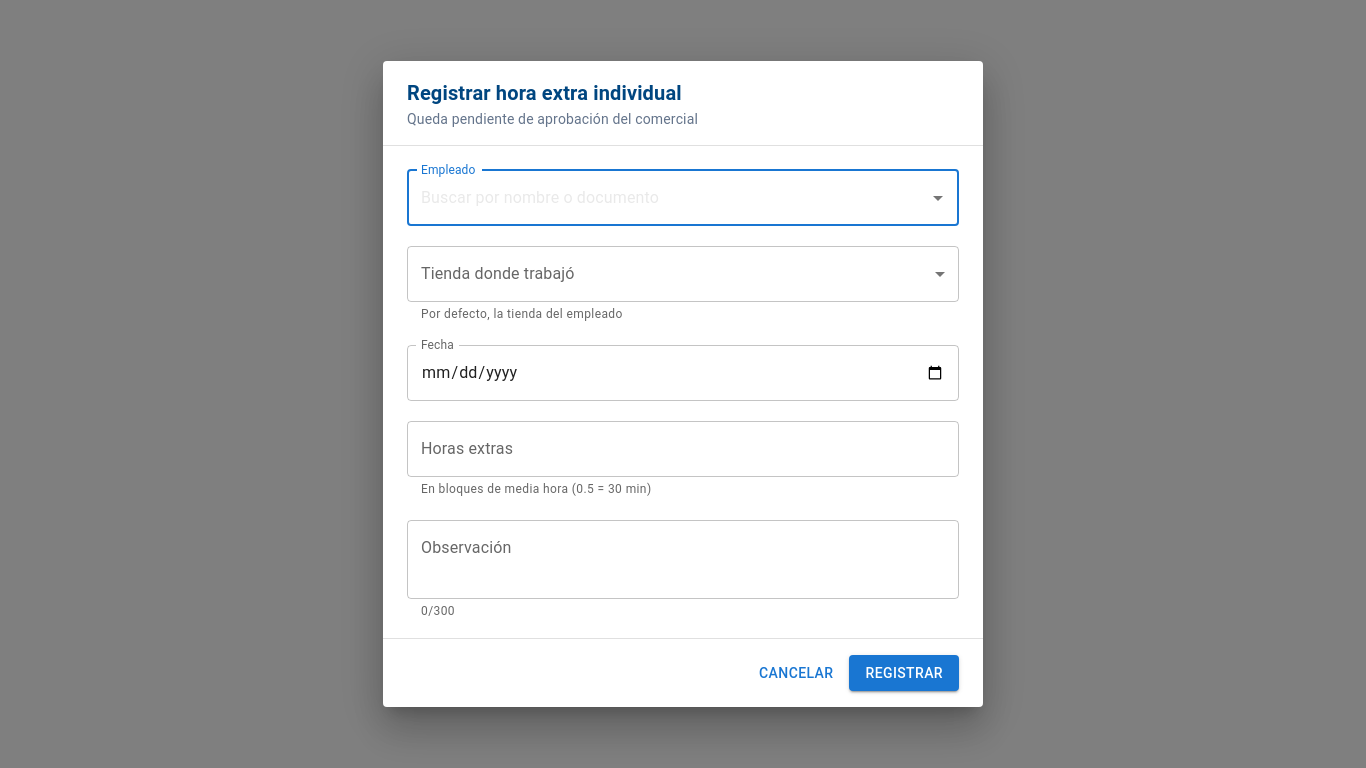
Scenario: RegistrarHoraExtraModal (individual) › no guarda sin horas ni con bloques que no son de media hora
This screenshot has width=1366, height=768.
In the dropdown labelled "Empleado": (668, 198) [416,179,920,217], type "1107"
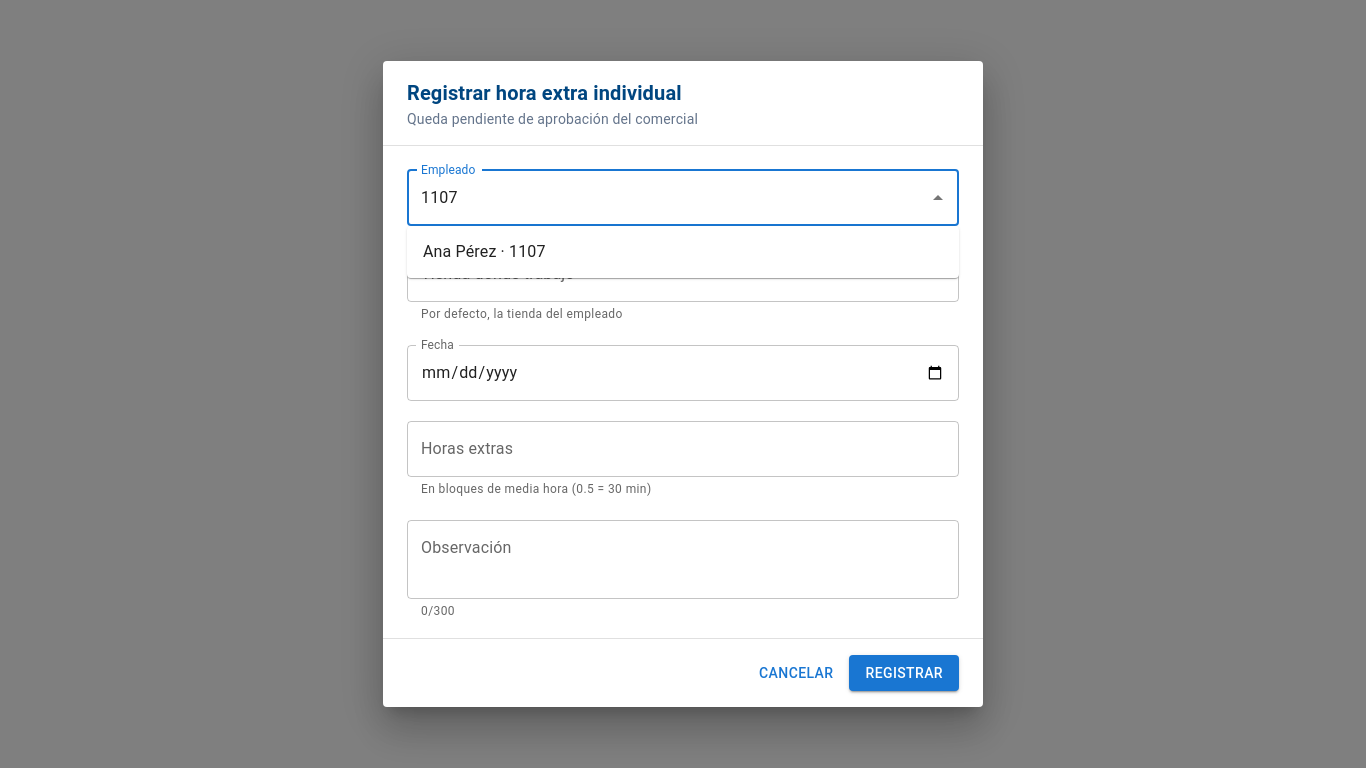
Click the option "Ana Pérez · 1107": (484, 252) [423,242,546,261]
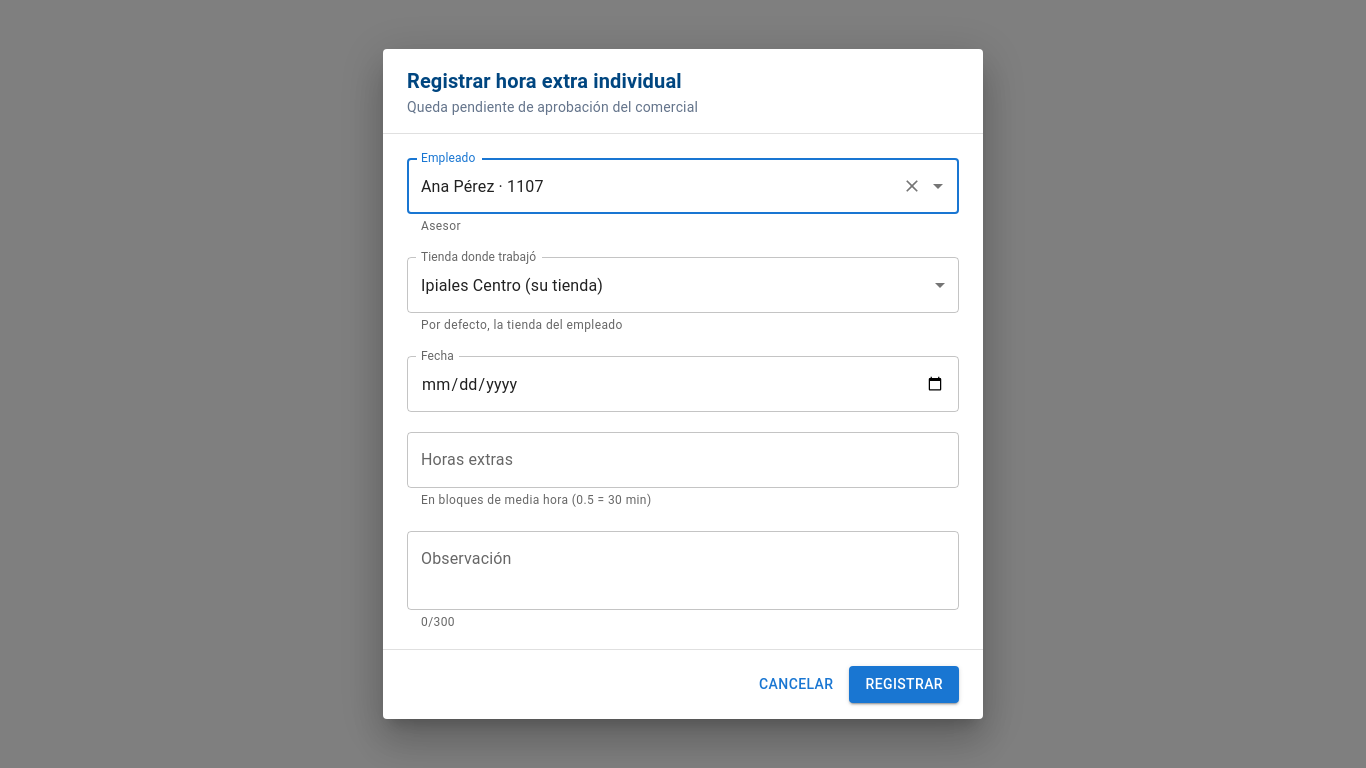
Click the button "Registrar": (904, 684) [850,666,959,703]
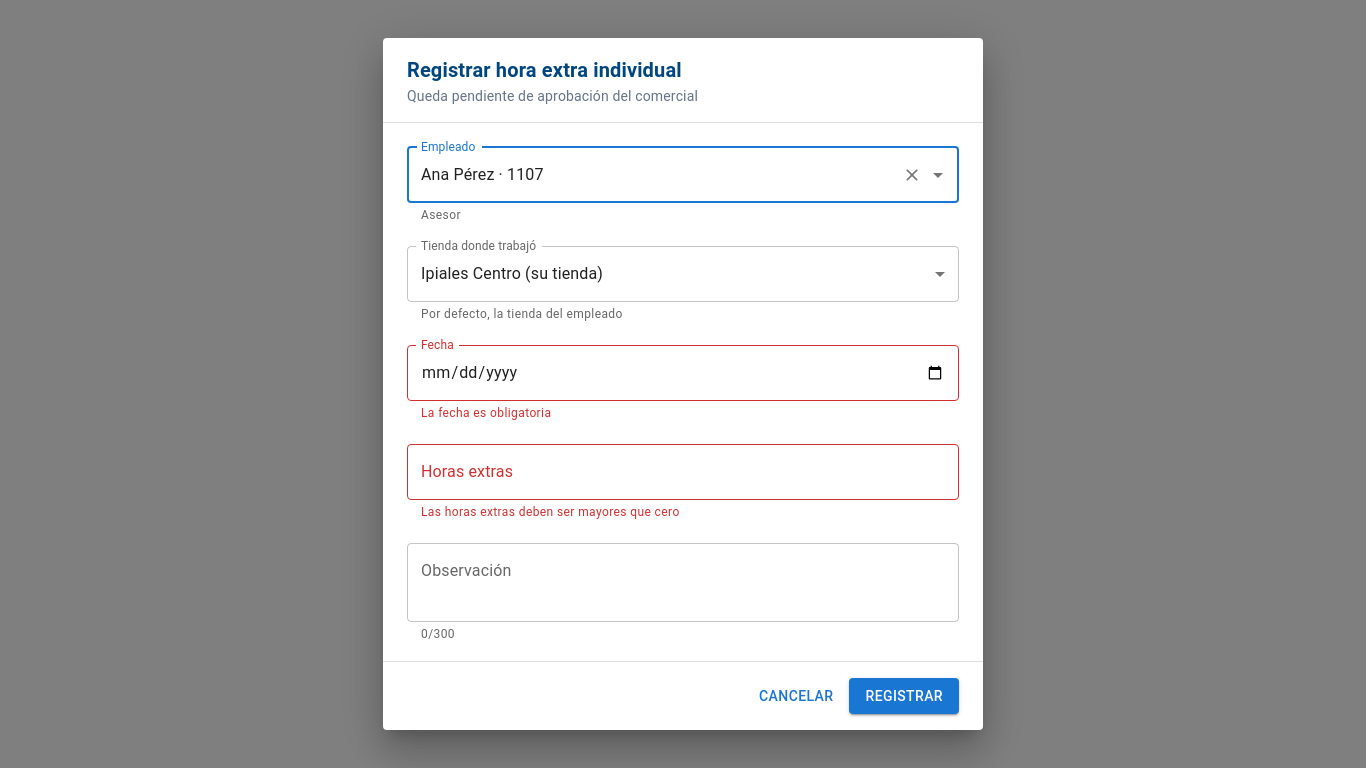
Check: the text "Las horas extras deben ser mayores que cero" is shown, box [421,505,680,519]
In the number field labelled "Horas extras": (683, 472) [407,444,959,500], type "1.25"
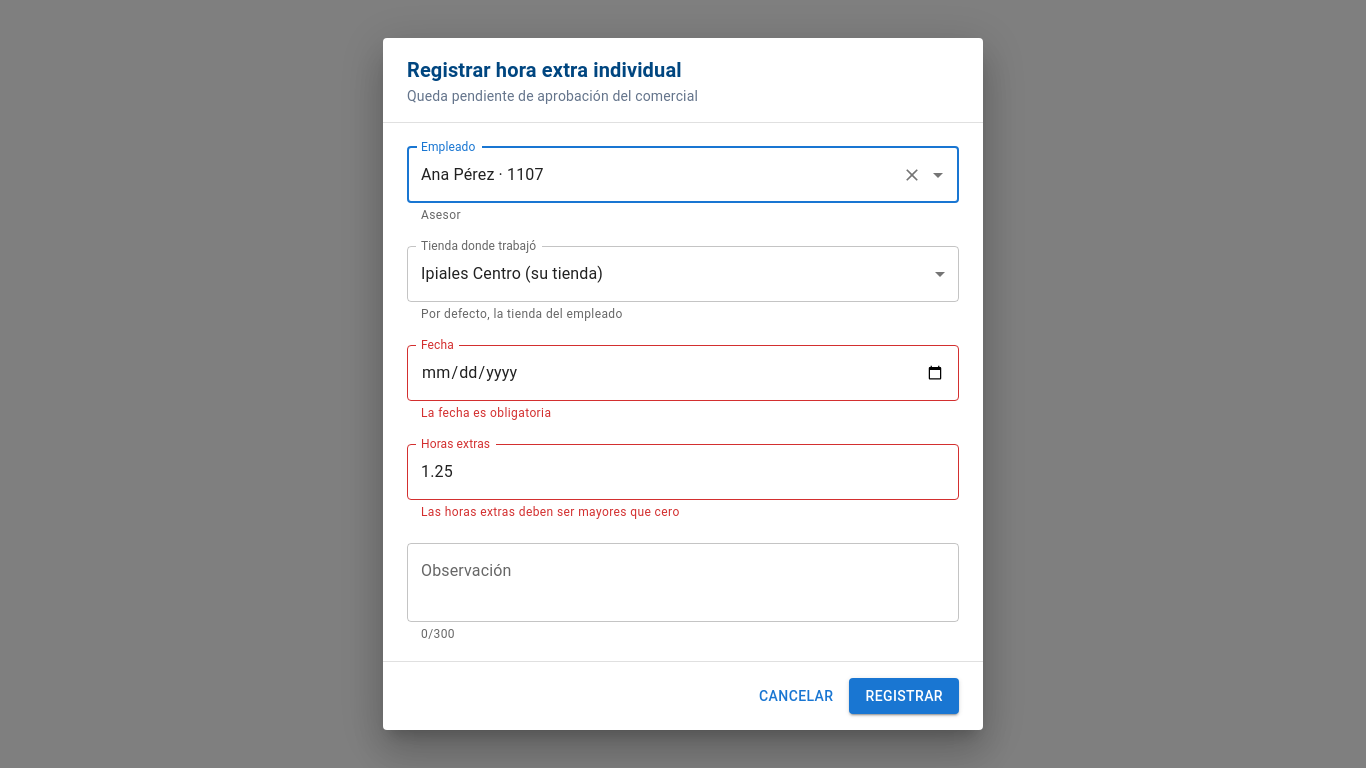
Click the button "Registrar": (904, 696) [850,678,959,714]
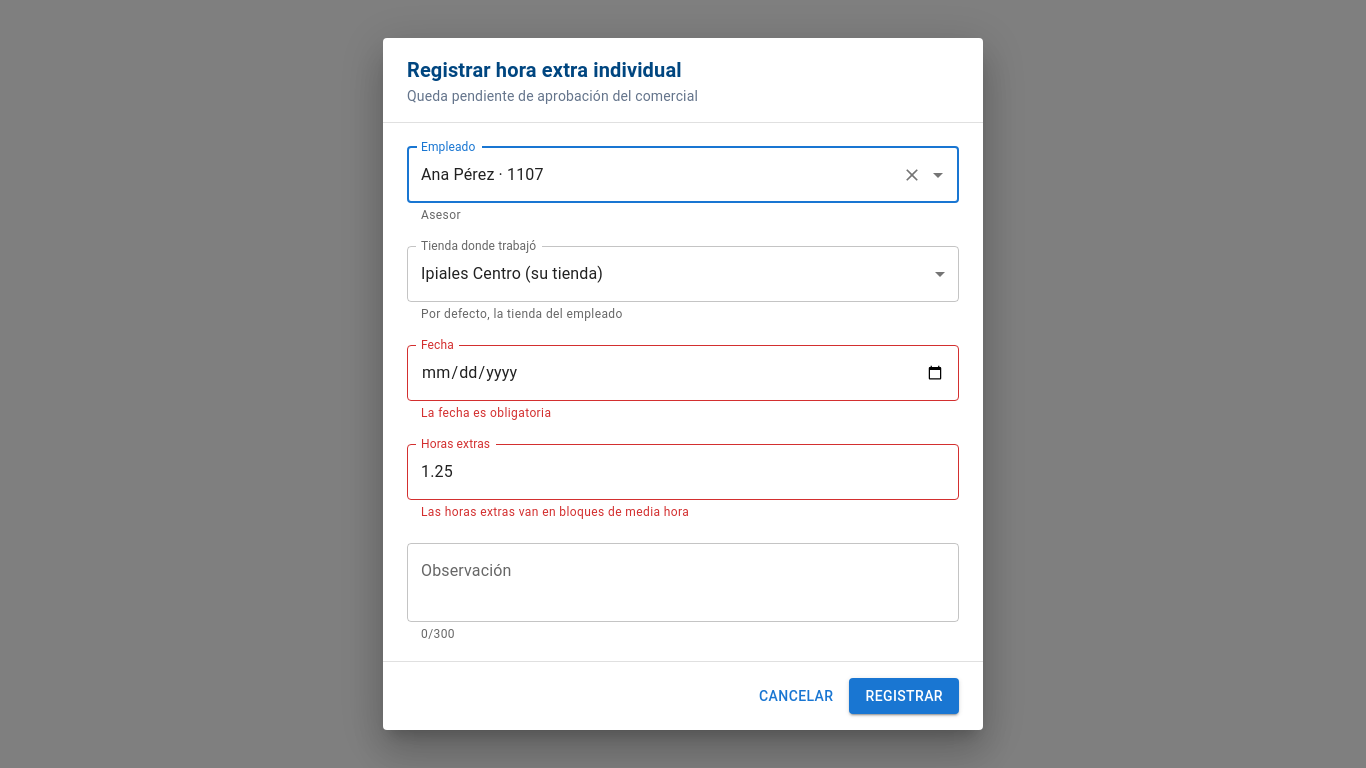
Check: the text "Las horas extras van en bloques de media hora" is shown, box [421,505,689,519]
